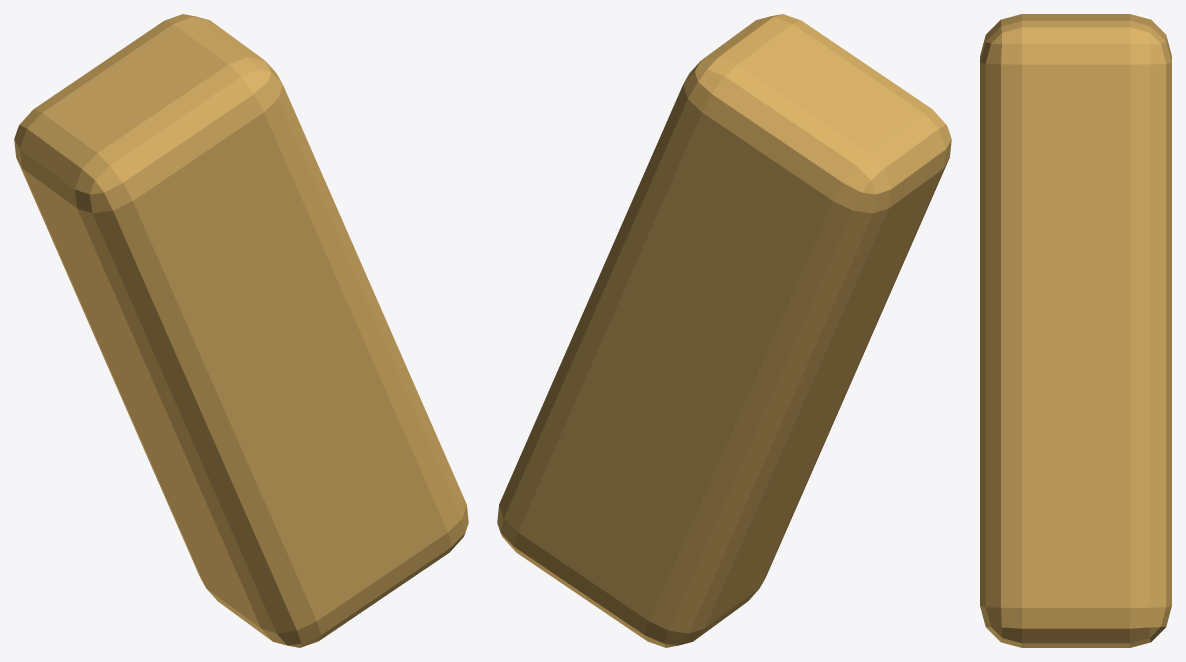
File: SM_HC_BeatHalo_38.fbx
3 renders of one model, left to right at view 1: azimuth 30°, elevation 25°; view 2: azimuth 150°, elevation 25°; view 3: azimuth 270°, elevation 25°, orthographic. The views are drawn at different scales.
Parts seen in each view (by area): view 1: SM_HC_BeatHalo_38; view 2: SM_HC_BeatHalo_38; view 3: SM_HC_BeatHalo_38.
Part boxes in pixels (box(x1,y1,x2,y2)): SM_HC_BeatHalo_38: box(14, 14, 468, 647); SM_HC_BeatHalo_38: box(497, 14, 951, 647); SM_HC_BeatHalo_38: box(980, 14, 1171, 647).
Bounding box in the file's own units: 126 × 55 × 186.
